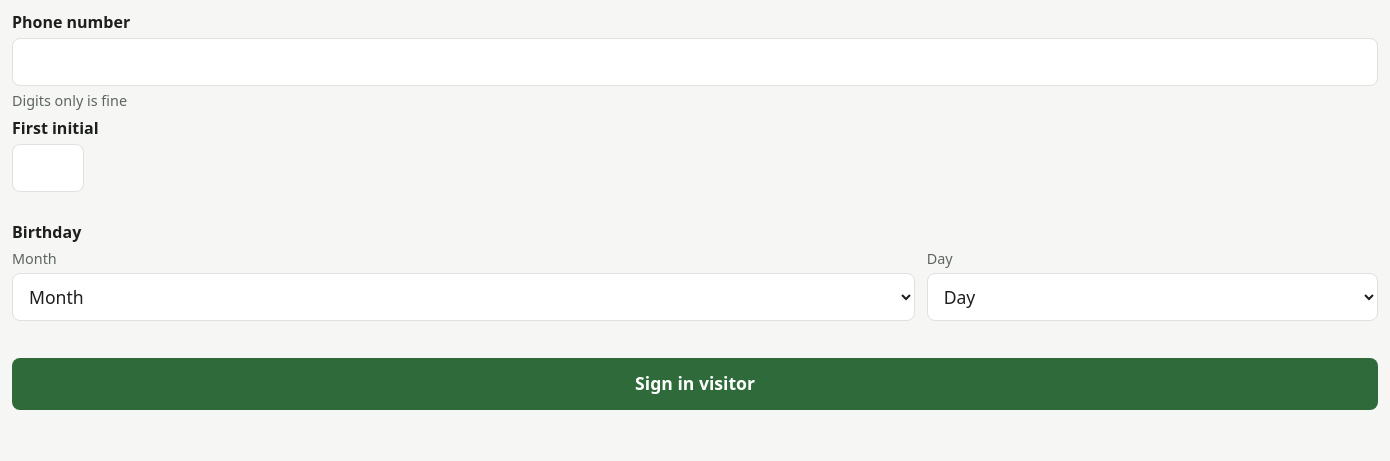
Test: SignInForm › keeps the values and shows an error when saving fails
Type "3125550100" into the field labelled "Phone number" at coordinates (695, 62), box [12,38,1378,86]
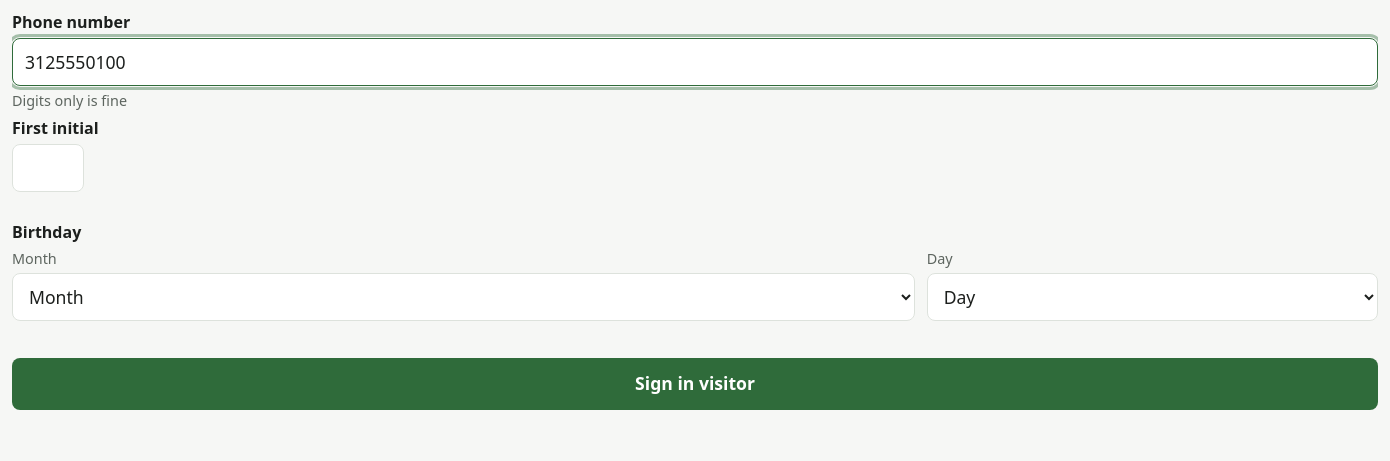
Type "k" into the field labelled "First initial" at coordinates (48, 168), box [12,144,84,192]
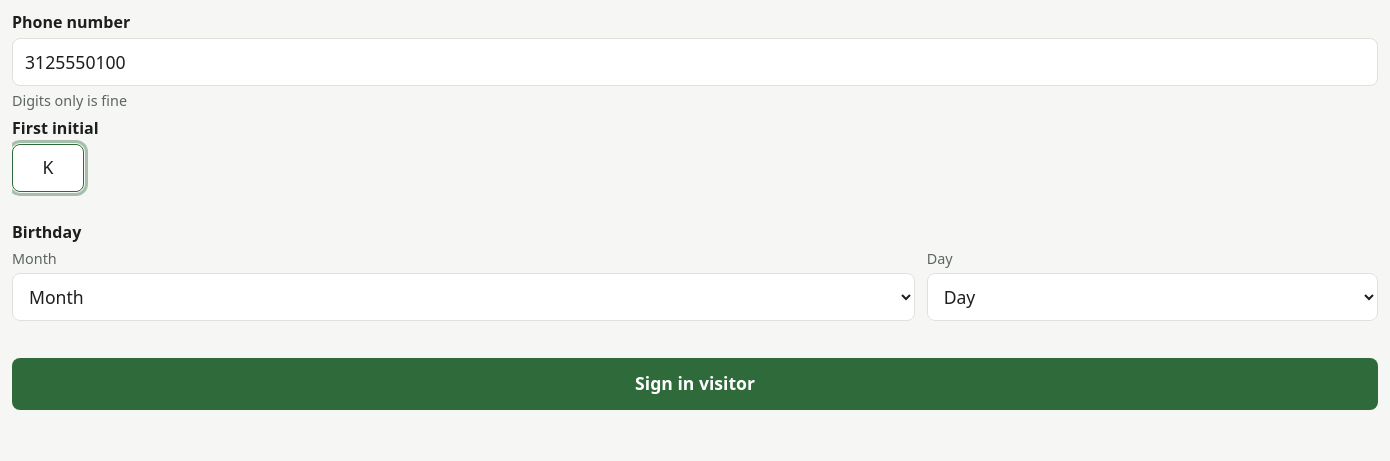
Select "March" in the dropdown labelled "Month" at coordinates (463, 297), box [12,273,915,321]
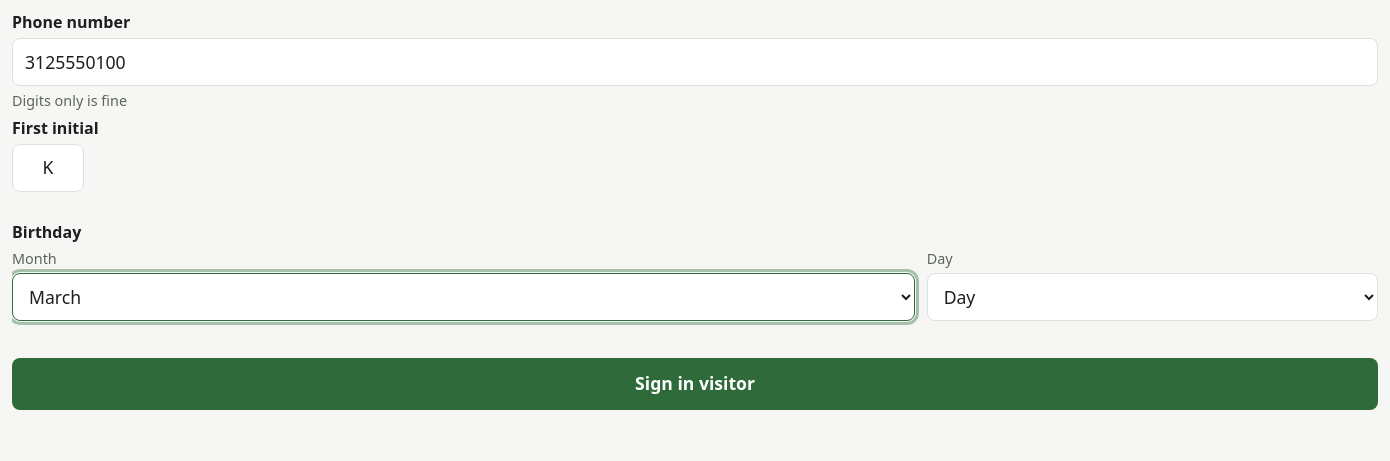
Select "3" in the dropdown labelled "Day" at coordinates (1152, 297), box [927,273,1378,321]
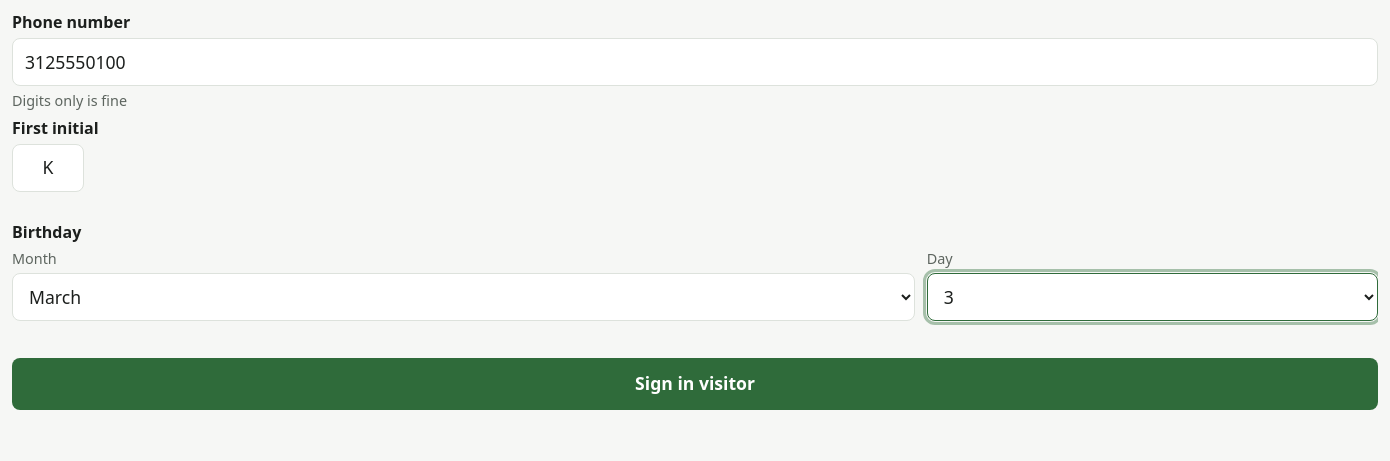
Click the button "Sign in visitor" at coordinates (695, 384), box [12,358,1378,410]
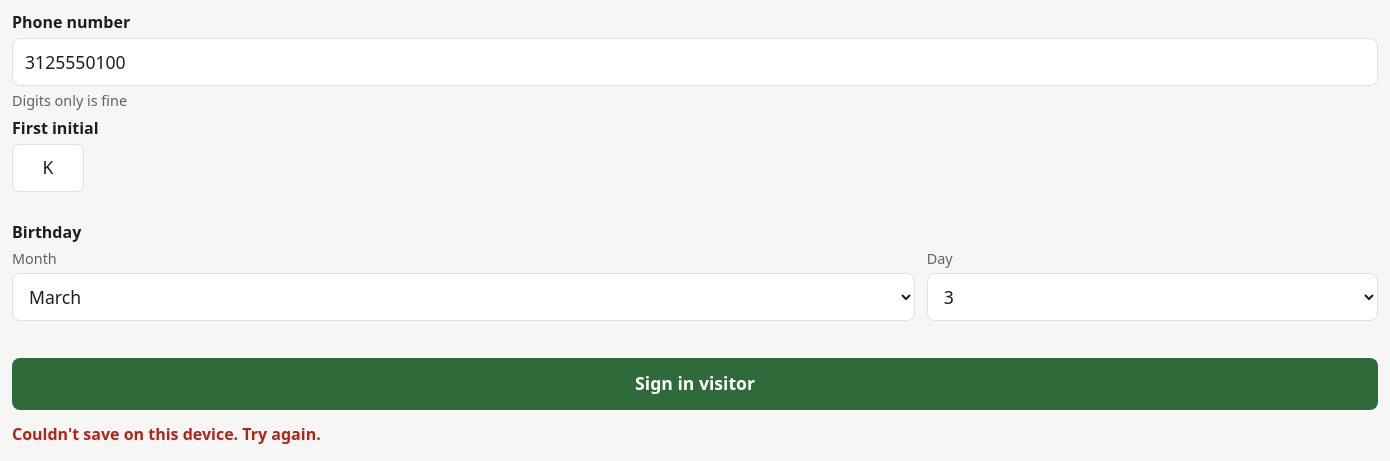
Expected: the text "Couldn't save on this device. Try again." is shown, [12,422,321,444]
